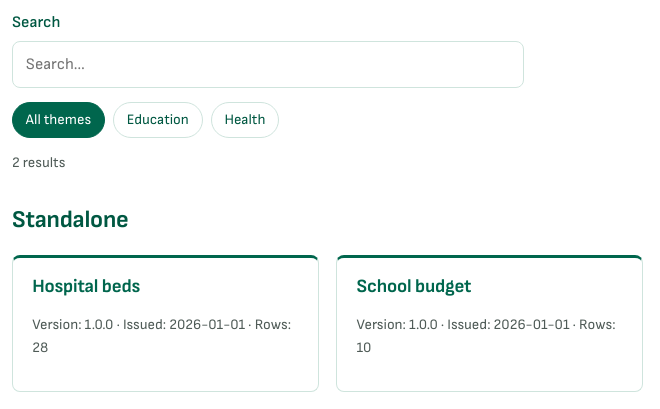
Test case: DatasetSearch › filters datasets by free-text query
This screenshot has width=660, height=409.
Expected: the link "Hospital beds" is shown, [32,275,140,298]
Type "school" into the search field.
click(268, 65); type("school")  # box [12,41,524,88]
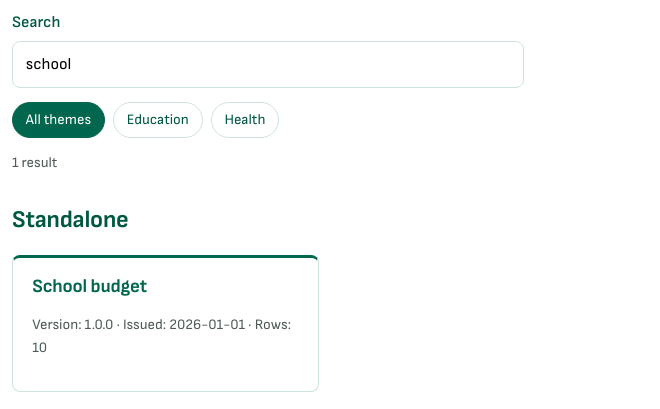
Expected: the link "School budget" is shown, [32,275,147,298]
Result: the link "Hospital beds" is gone
